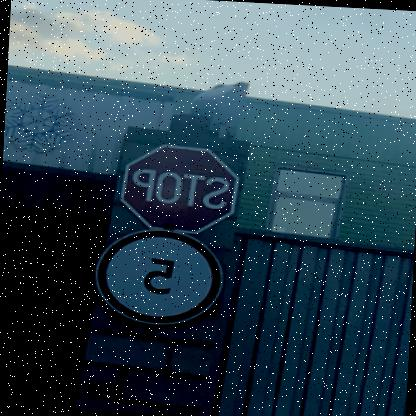speedlimit: (98, 226, 230, 328)
stop: (121, 140, 242, 233)
